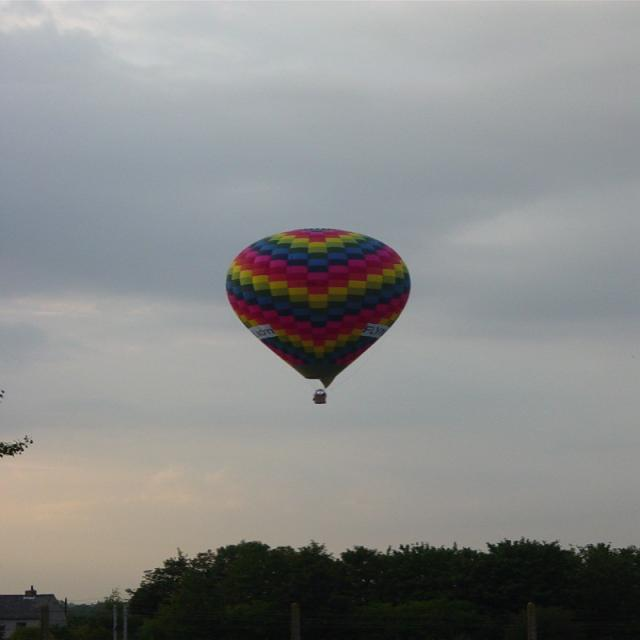balloon: (225, 227, 412, 405)
